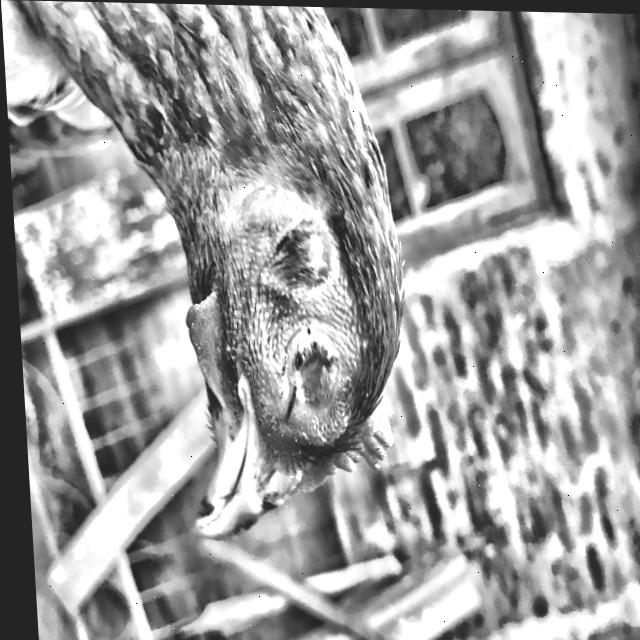Coryza: (84, 59, 458, 616)
